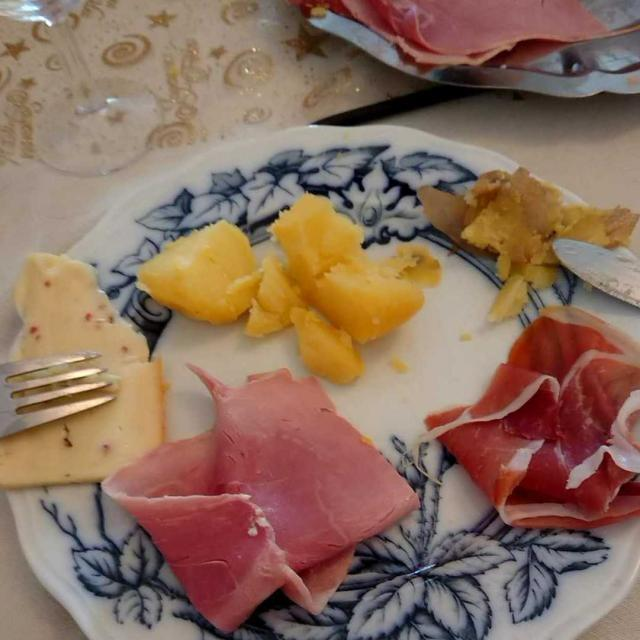cheese: (1, 243, 164, 490)
ham: (100, 362, 418, 621), (450, 307, 639, 530)
potatoes: (146, 203, 446, 373)
